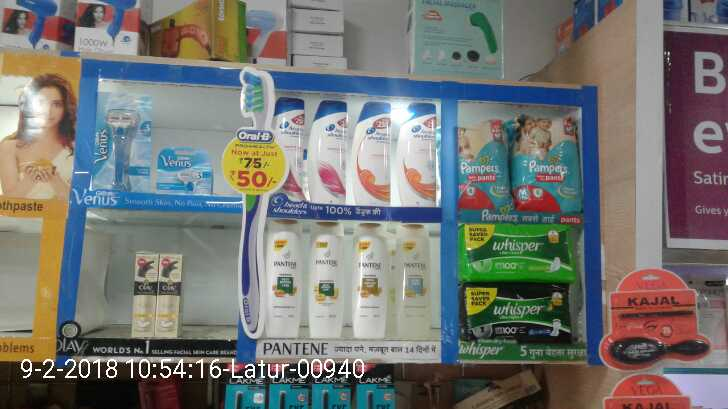venus: (94, 89, 150, 192), (155, 146, 214, 191)
